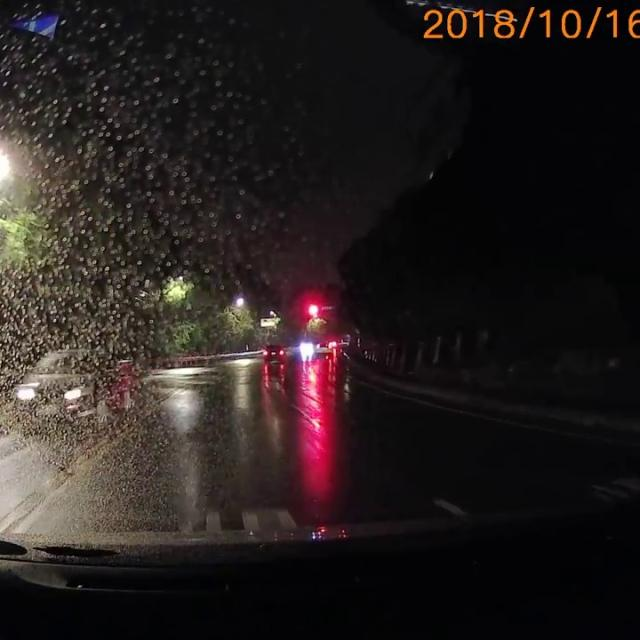Car: (10, 345, 137, 430), (258, 342, 286, 362)
